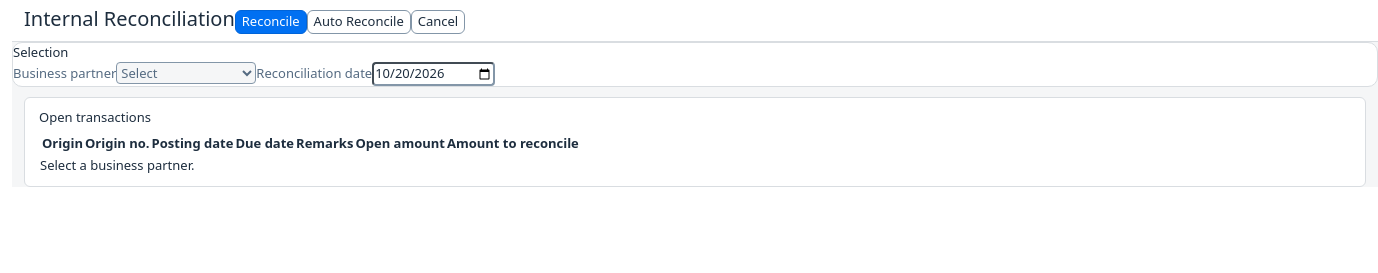
Internal Reconciliation page › reconciles only when the selected debits and credits are equal
Select "C001 - Acme Ltd (2)" in the dropdown labelled "Business partner" at [186, 73], box [116,62,256,84]
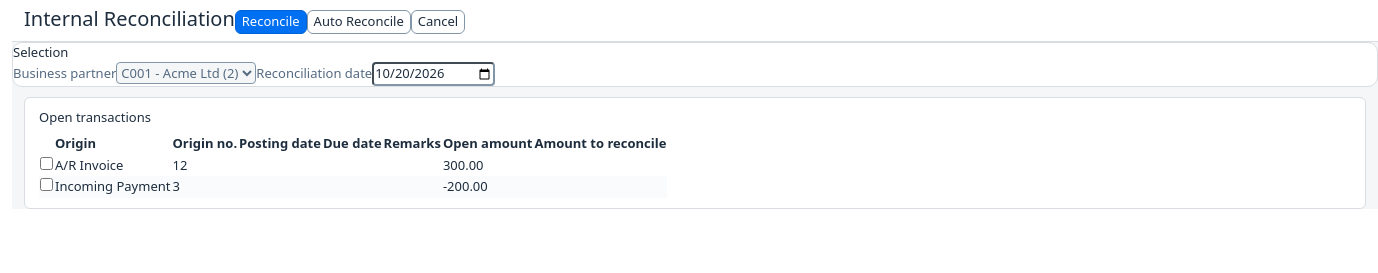
Click the checkbox named "Select A/R Invoice 12" at [46, 163], box [40,157,53,170]
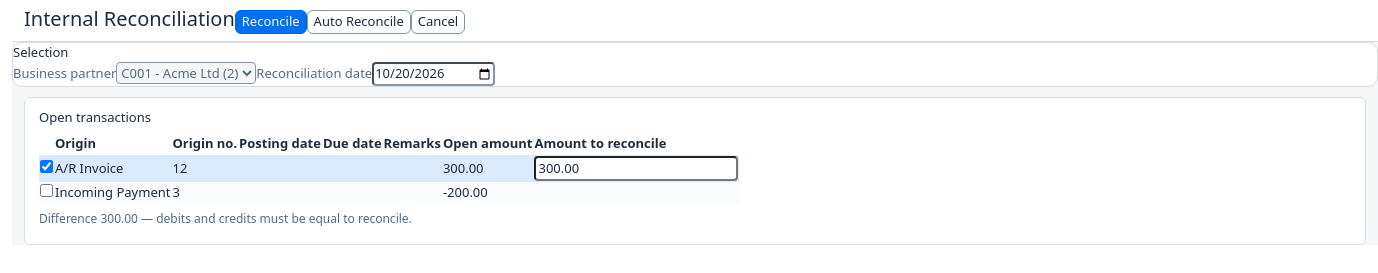
Click the checkbox named "Select Incoming Payment 3" at [46, 191], box [40,184,53,197]
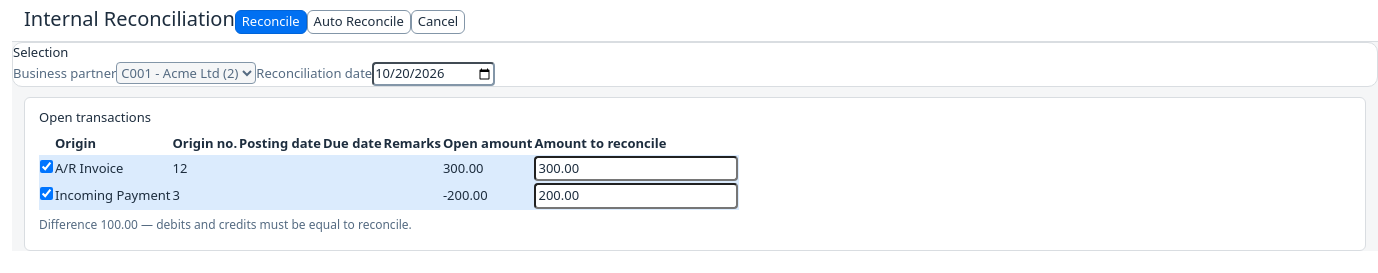
Check: the button "Reconcile" is disabled, box [235,10,307,34]
Replace the text in the number field named "Amount to reconcile 12" with "200" at [636, 169], box [534,156,738,181]
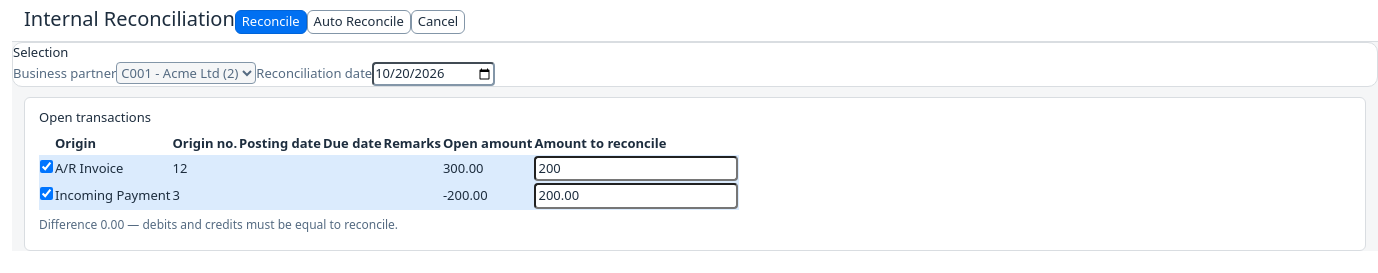
Click the button "Reconcile" at [271, 22], box [235,10,307,34]
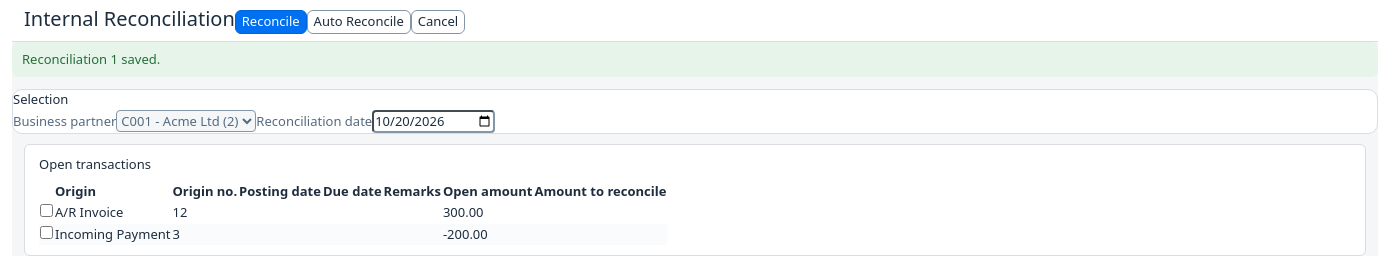
Check: the message reads "Reconciliation 1 saved.", box [22,50,160,68]
